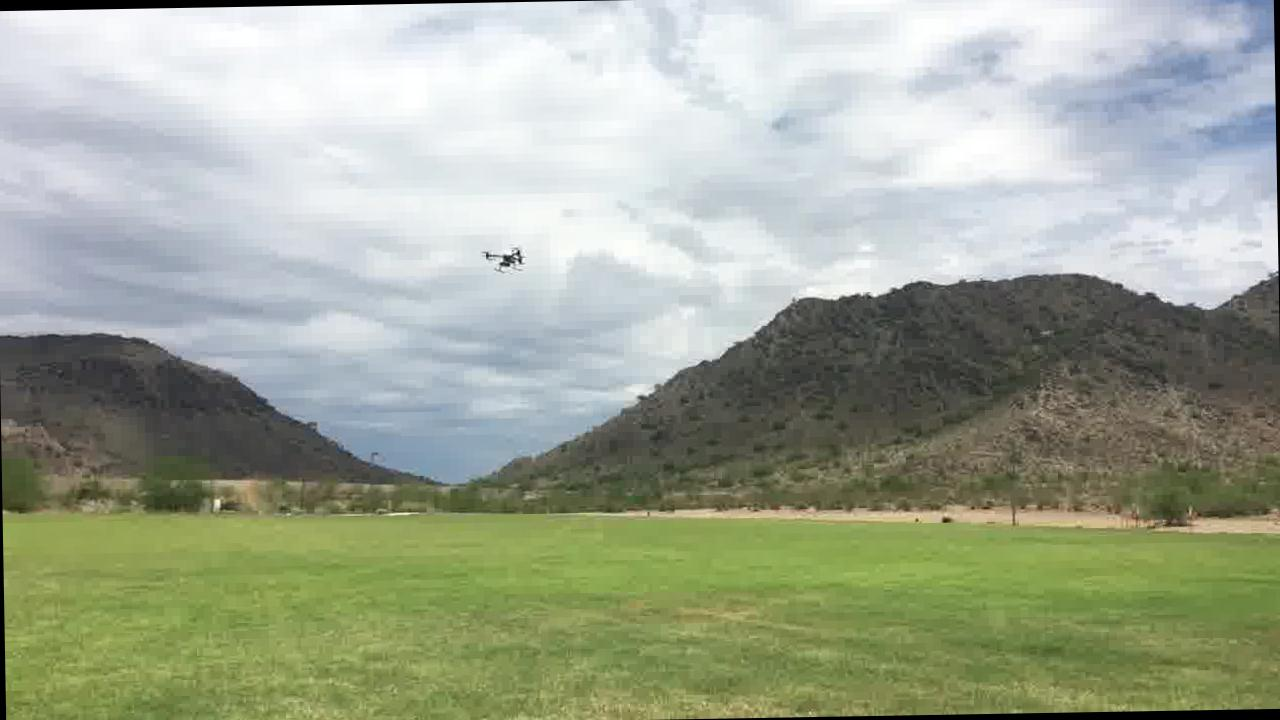drone: (478, 240, 524, 276)
